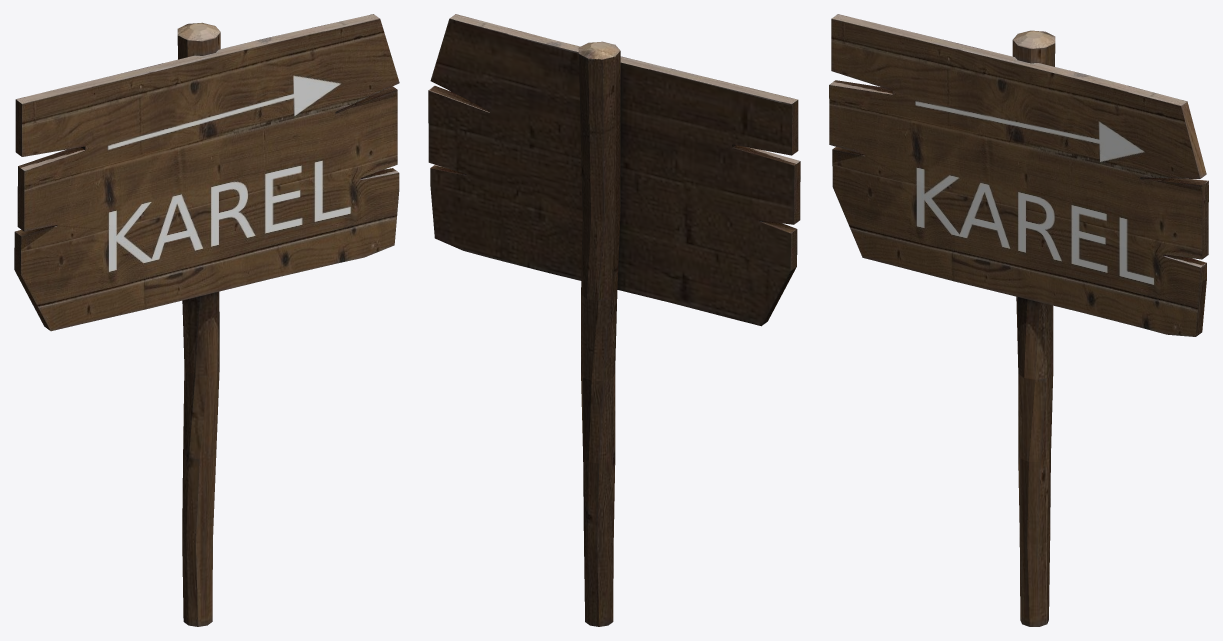
Rendered from arrow-karel.gltf.
The picture shows the model from 3 angles, left to right: view 1: azimuth 30°, elevation 25°; view 2: azimuth 150°, elevation 25°; view 3: azimuth 330°, elevation 25°; orthographic projection. The views are drawn at different scales.
Visible parts, largest first — view 1: Signpost_Tall_Baked_dark_0; view 2: Signpost_Tall_Baked_dark_0; view 3: Signpost_Tall_Baked_dark_0.
Part boxes in pixels (x1,y1,x2,y2): Signpost_Tall_Baked_dark_0: [14, 14, 399, 626]; Signpost_Tall_Baked_dark_0: [428, 14, 800, 626]; Signpost_Tall_Baked_dark_0: [829, 14, 1208, 626].
Size of the model in its own units: 2 by 3.02 by 0.2602.
Materials: 1 (1 with a texture image).
